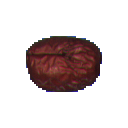ng: (18, 27, 112, 100)
